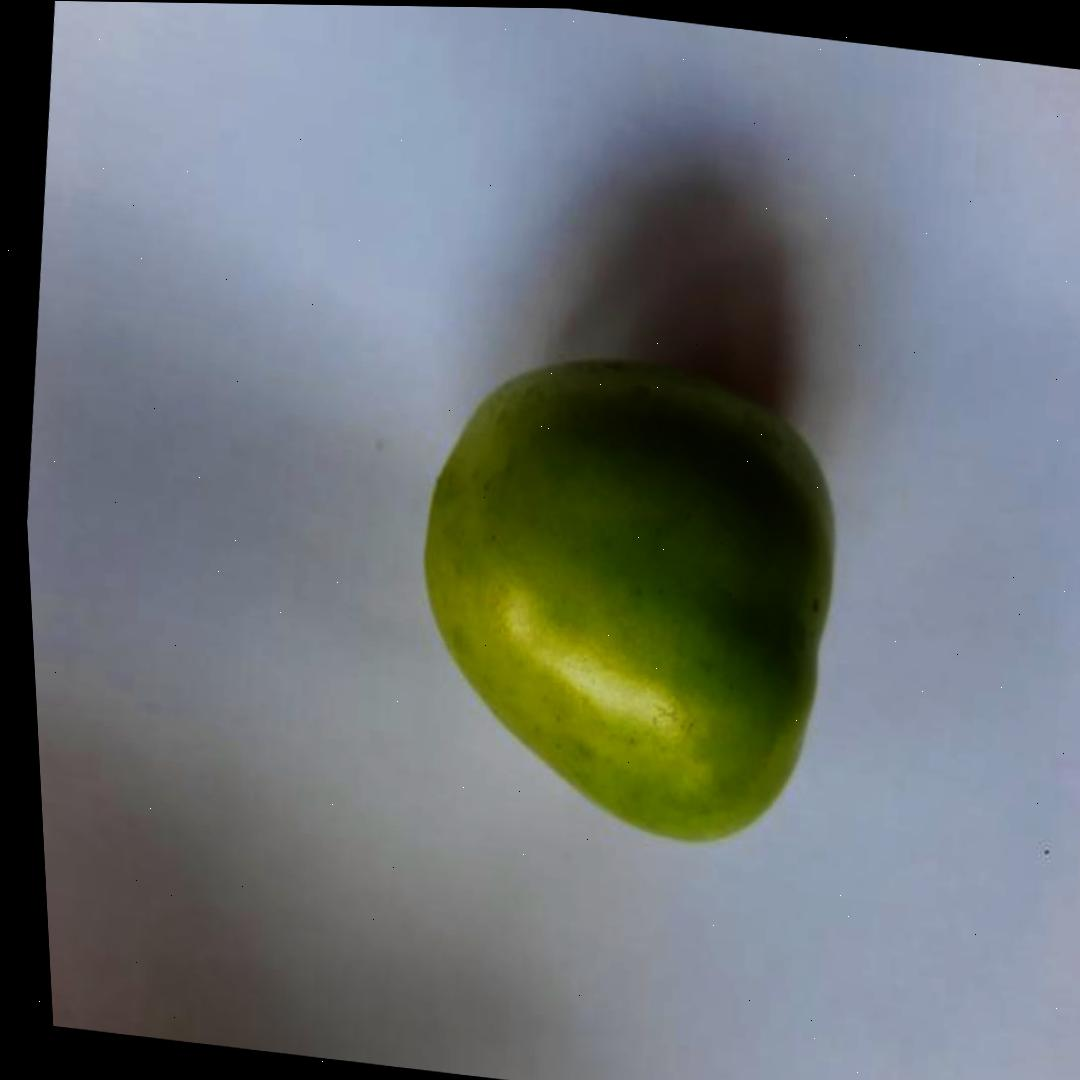mentah: (380, 329, 872, 863)
